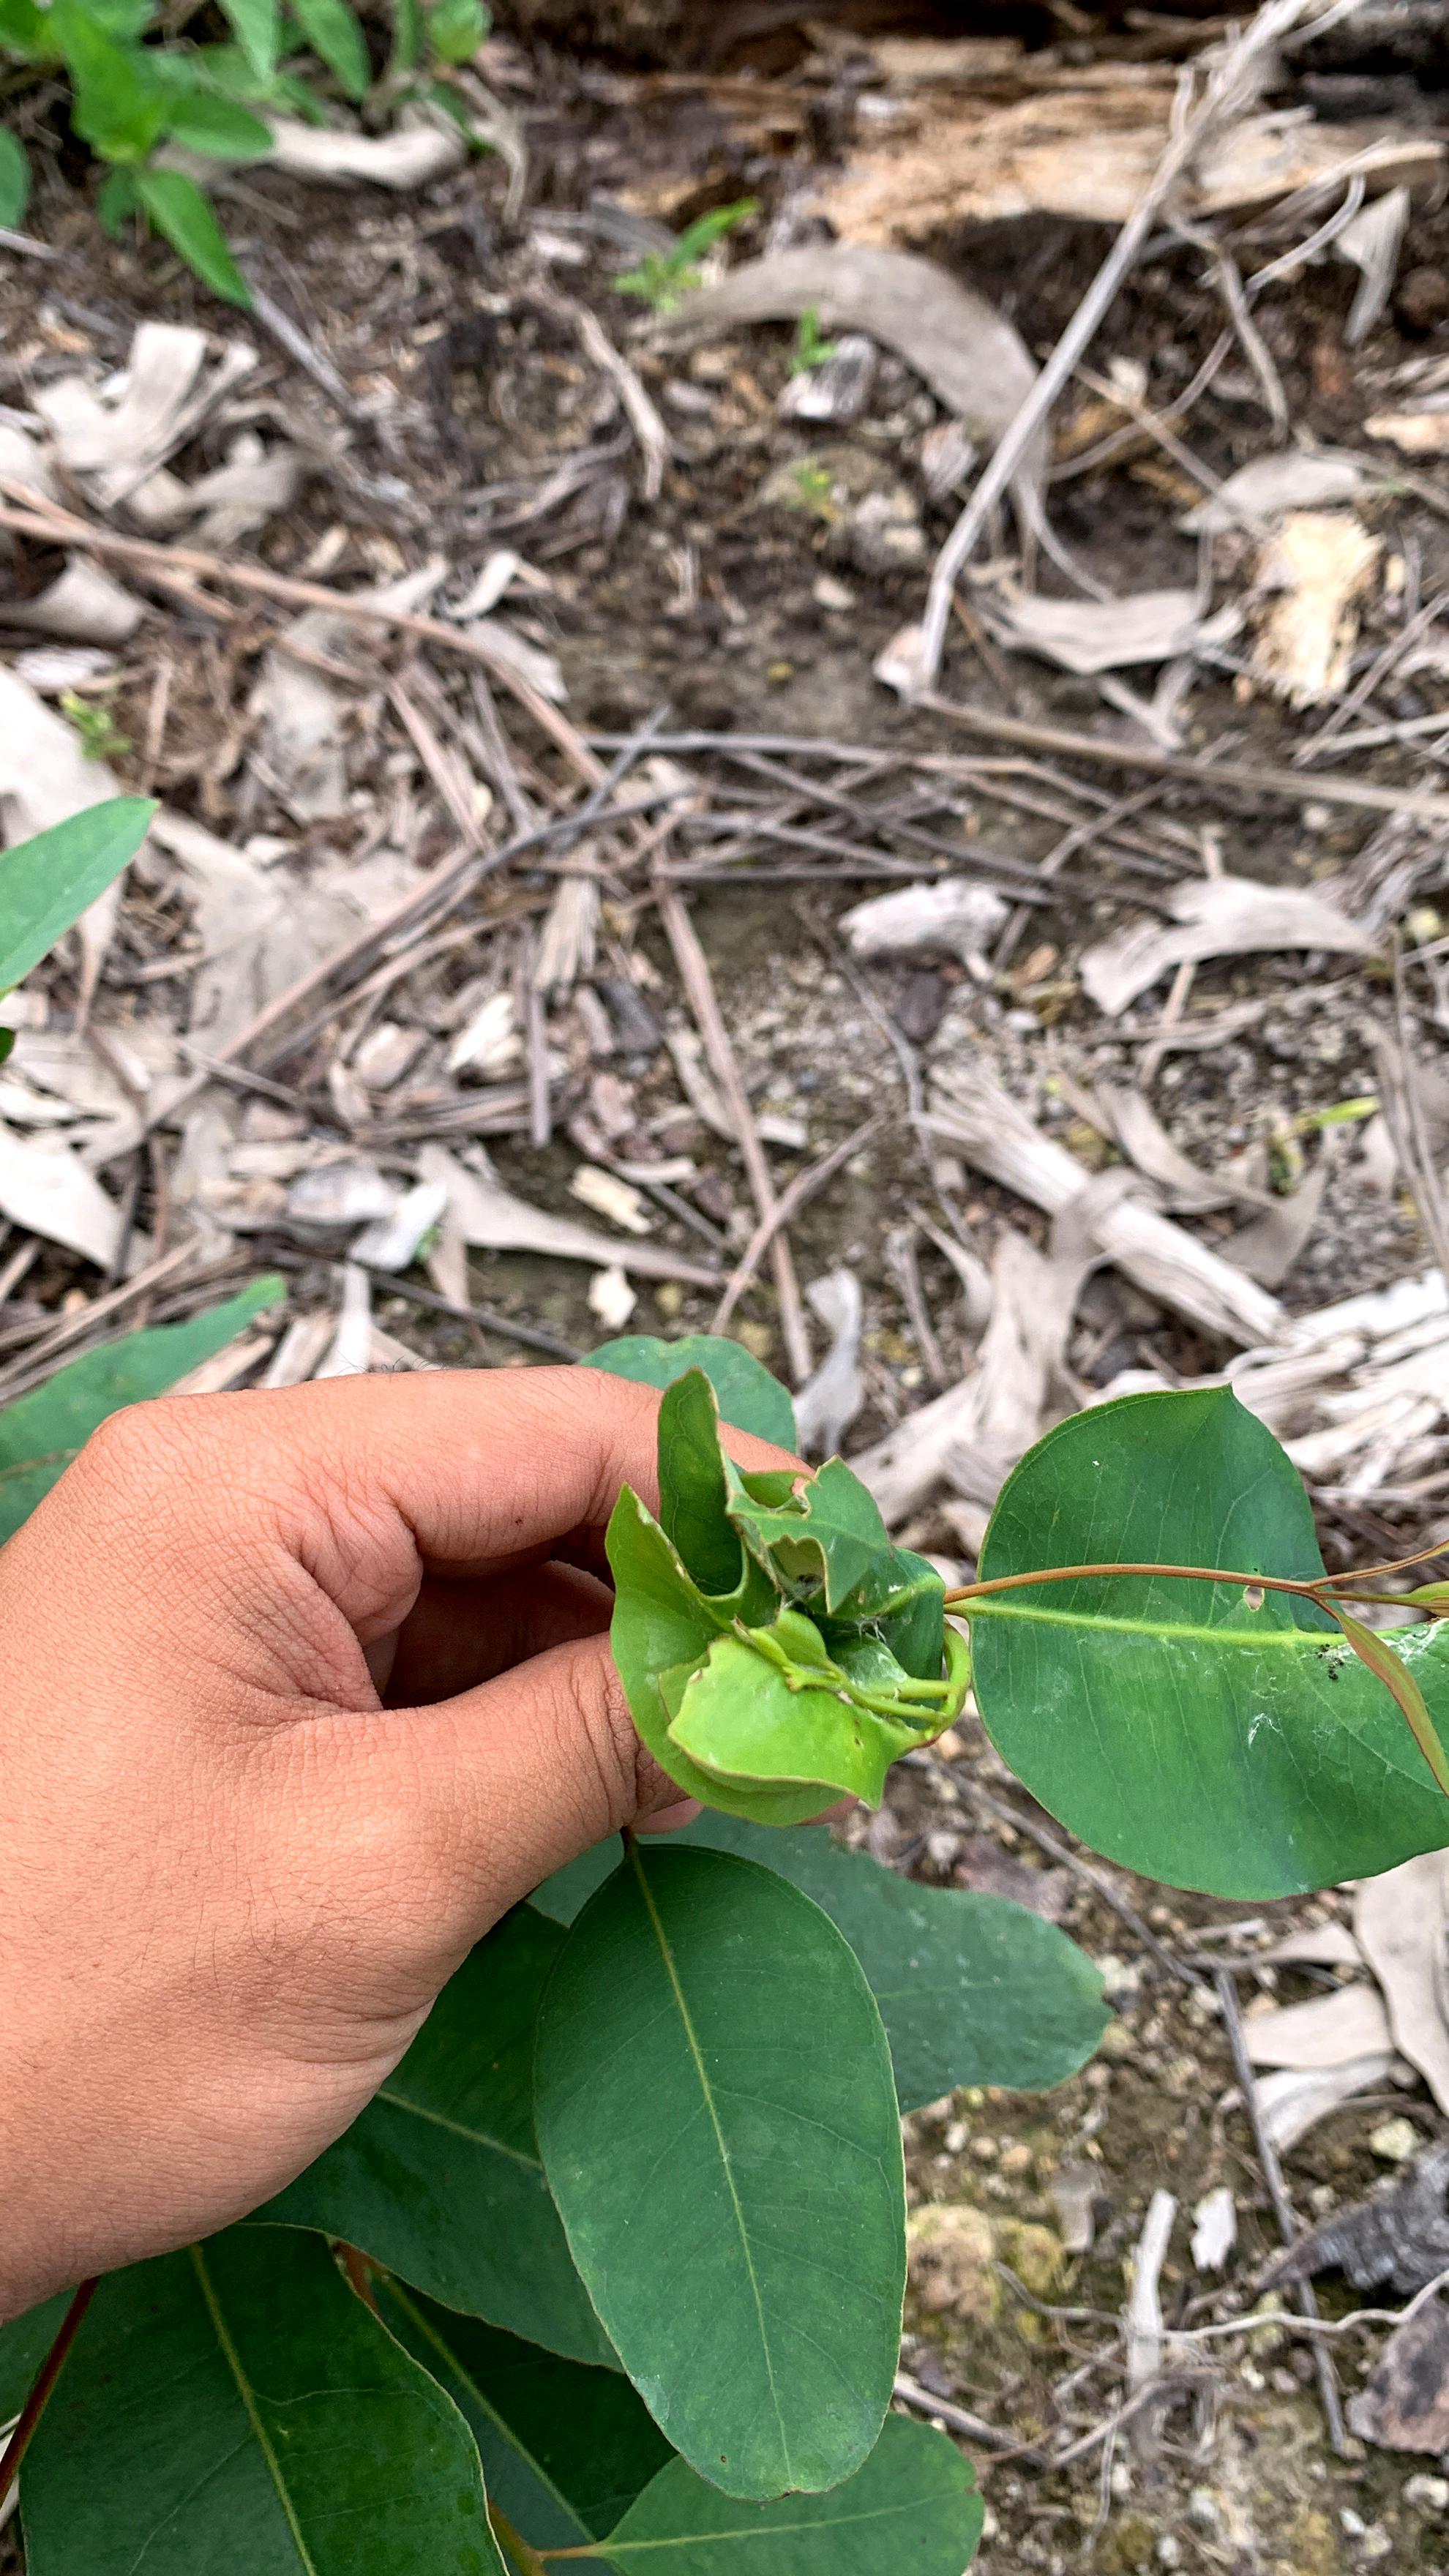Leaf Roller - Leaf: (523, 1414, 1033, 1958)
